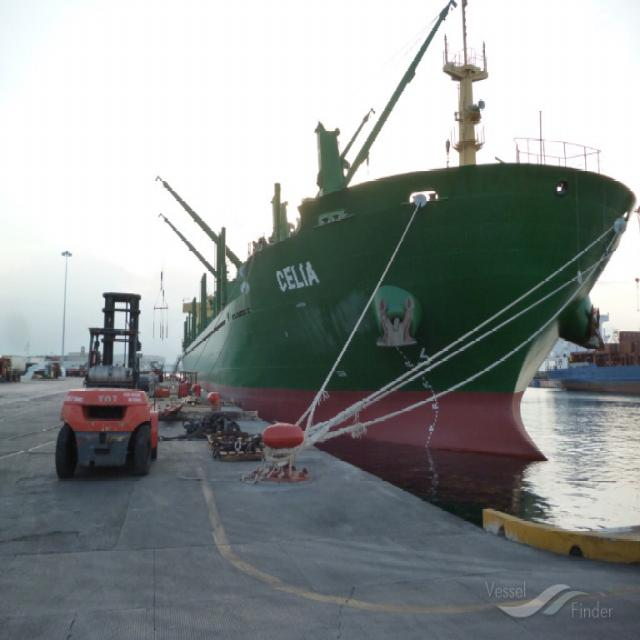OCR: (273, 258, 322, 301)
